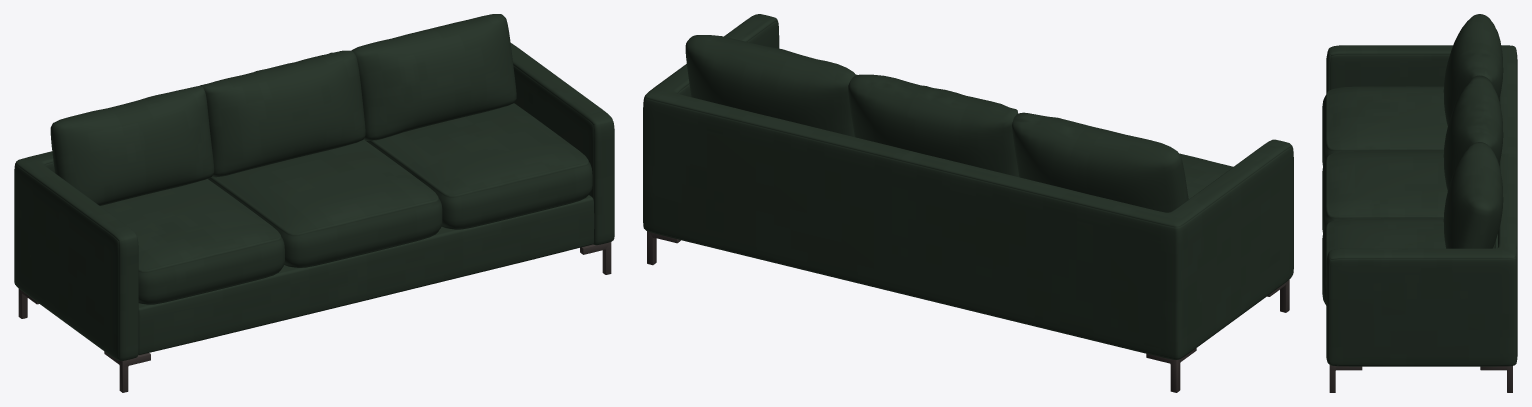
3 views of the same model, side by side, from view 1: azimuth 30°, elevation 25°; view 2: azimuth 150°, elevation 25°; view 3: azimuth 270°, elevation 25° (orthographic). The views are drawn at different scales.
Parts seen in each view (by area): view 1: RootNode; view 2: RootNode; view 3: RootNode.
Part boxes in pixels (left/top/right/bottom): RootNode: left=14, top=14, right=614, bottom=392; RootNode: left=643, top=14, right=1293, bottom=392; RootNode: left=1322, top=14, right=1517, bottom=392.
Bounding box in the file's own units: 2.22 × 0.8704 × 0.859.
1 material, 1 textured.
